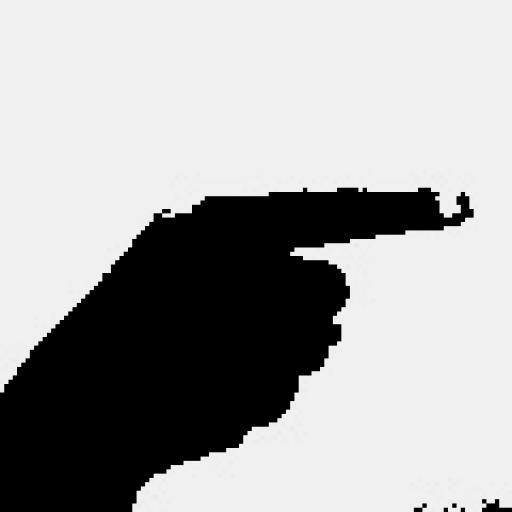index_left: (0, 186, 476, 400)
